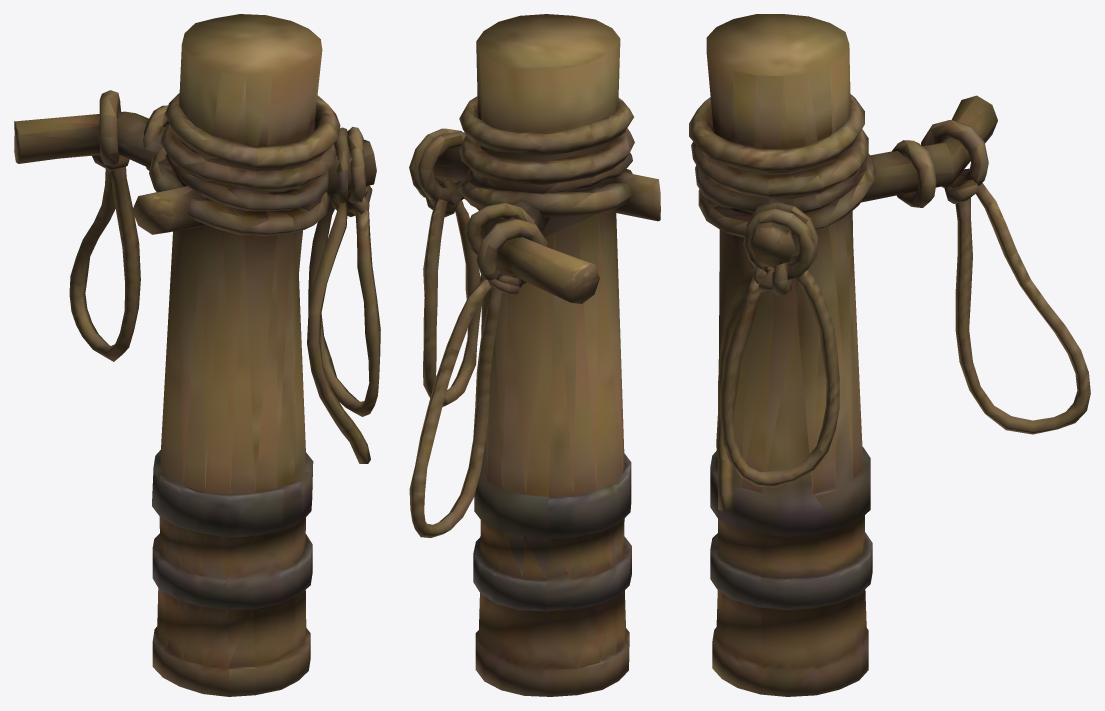
File: hitching-post.glb
The picture shows the model from 3 angles, left to right: view 1: azimuth 30°, elevation 25°; view 2: azimuth 150°, elevation 25°; view 3: azimuth 270°, elevation 25°; orthographic projection.
Parts seen in each view (by area): view 1: tripo_part_1, tripo_part_6, tripo_part_12, tripo_part_41, tripo_part_9, tripo_part_14, tripo_part_8, tripo_part_23, tripo_part_40, tripo_part_7, tripo_part_13, tripo_part_16 (+1 smaller); view 2: tripo_part_1, tripo_part_12, tripo_part_6, tripo_part_14, tripo_part_41, tripo_part_8, tripo_part_9, tripo_part_40, tripo_part_7, tripo_part_16, tripo_part_15, tripo_part_13 (+1 smaller); view 3: tripo_part_1, tripo_part_12, tripo_part_14, tripo_part_9, tripo_part_6, tripo_part_41, tripo_part_8, tripo_part_7, tripo_part_23, tripo_part_13, tripo_part_40, tripo_part_15 (+1 smaller).
Part boxes in pixels (x1,y1,x2,y2): tripo_part_1: (152,14,322,696); tripo_part_6: (149,148,329,236); tripo_part_12: (69,166,140,361); tripo_part_41: (14,111,175,173); tripo_part_9: (164,93,340,170); tripo_part_14: (308,194,380,416); tripo_part_8: (160,124,336,190); tripo_part_23: (307,202,370,463); tripo_part_40: (132,139,376,234); tripo_part_7: (92,90,129,171); tripo_part_13: (347,126,366,203); tripo_part_16: (333,127,349,204); tripo_part_1: (473,14,631,696); tripo_part_12: (409,279,502,537); tripo_part_6: (458,152,632,217); tripo_part_14: (423,199,481,406); tripo_part_41: (496,199,599,303); tripo_part_8: (459,128,634,184); tripo_part_9: (459,96,633,155); tripo_part_40: (434,145,660,221); tripo_part_7: (476,218,547,295); tripo_part_16: (418,131,465,204); tripo_part_15: (465,203,534,255); tripo_part_13: (409,128,462,197); tripo_part_1: (706,14,872,696); tripo_part_12: (955,183,1090,434); tripo_part_14: (720,270,839,487); tripo_part_9: (689,94,864,173); tripo_part_6: (695,153,875,237); tripo_part_41: (861,95,997,202); tripo_part_8: (691,129,868,198); tripo_part_7: (921,120,988,203); tripo_part_23: (716,268,755,512); tripo_part_13: (743,208,814,279); tripo_part_40: (751,197,795,266); tripo_part_15: (891,140,936,207).
Bounding box in the file's own units: 0.3112 × 0.7006 × 0.407.
1 material, 1 textured.
